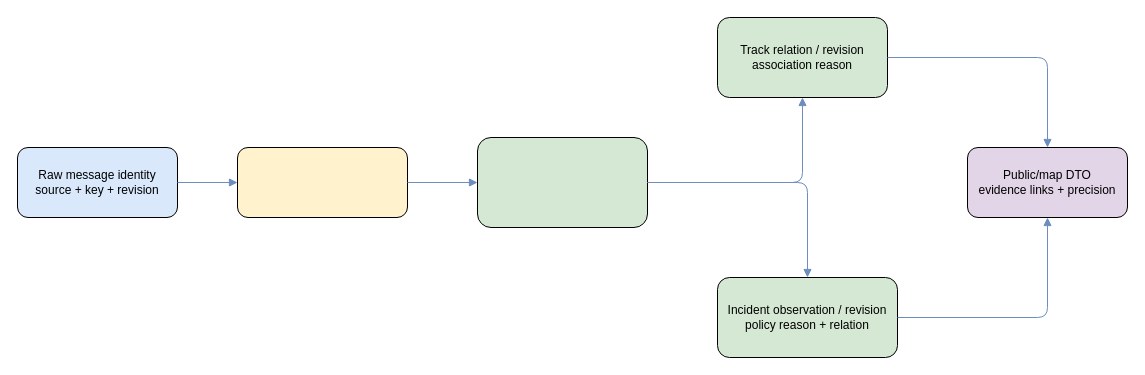
This 1145x375 diagram has some shape labels left out. The shapes that lost their labels are listed below. From the top down, each one's centre as x and y in pixels, then its label:
At (322,182): "Parsed fact ruleset/parser/catalog metadata".
At (562,182): "Target observation location kind + accuracy confidence".
